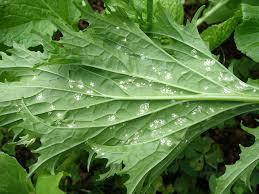Bok-Choy-Diseased: (43, 53, 211, 148)
